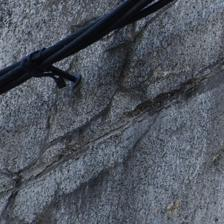Crack: (41, 62, 221, 162), (14, 26, 122, 133)
